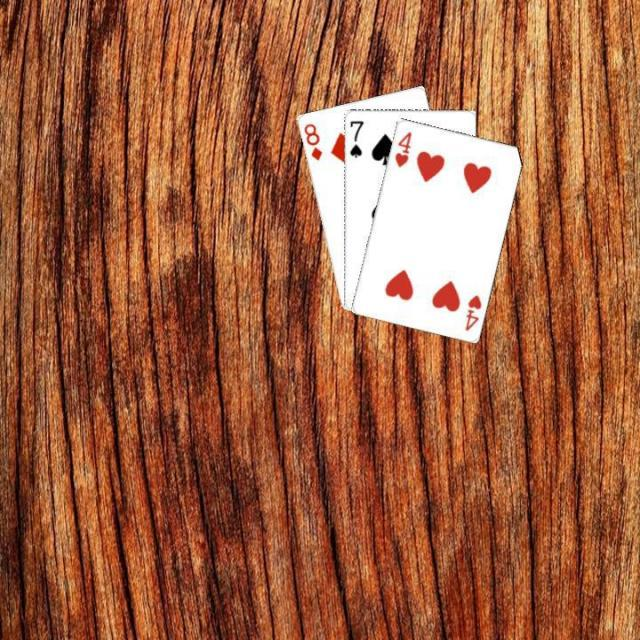4H: (461, 290, 484, 332), (391, 128, 414, 169)
7S: (346, 116, 364, 160)
8D: (300, 119, 324, 163)
